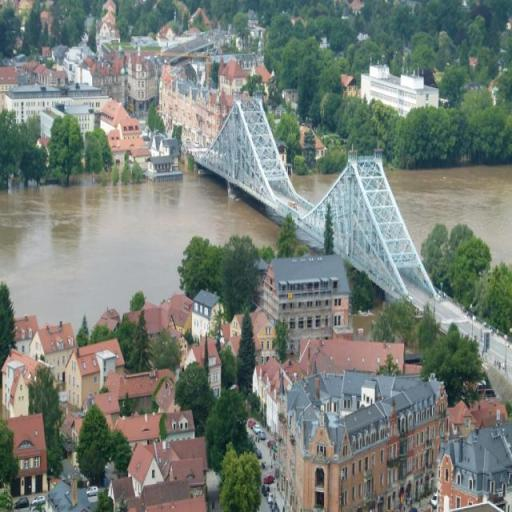flood: (0, 174, 278, 328), (388, 166, 512, 263), (294, 175, 338, 201)
house: (438, 420, 512, 512), (266, 257, 352, 333), (391, 387, 442, 489), (342, 409, 390, 509), (300, 335, 410, 378), (162, 65, 223, 141), (361, 64, 440, 114), (8, 413, 46, 494), (252, 357, 290, 428), (105, 370, 177, 407), (64, 350, 100, 408), (28, 322, 77, 364), (9, 84, 62, 122), (142, 481, 206, 512), (167, 439, 208, 485), (190, 338, 222, 396), (127, 444, 163, 488), (152, 300, 191, 334), (5, 361, 30, 414), (49, 41, 91, 70), (194, 288, 220, 333), (111, 130, 149, 158), (162, 408, 196, 438), (29, 62, 69, 86), (69, 84, 107, 107), (131, 60, 150, 101), (226, 49, 264, 69), (101, 9, 121, 45), (146, 155, 176, 179), (101, 101, 128, 127), (225, 58, 245, 88), (149, 138, 178, 158), (74, 106, 95, 130), (0, 66, 19, 92), (227, 314, 243, 338), (119, 120, 139, 138)
